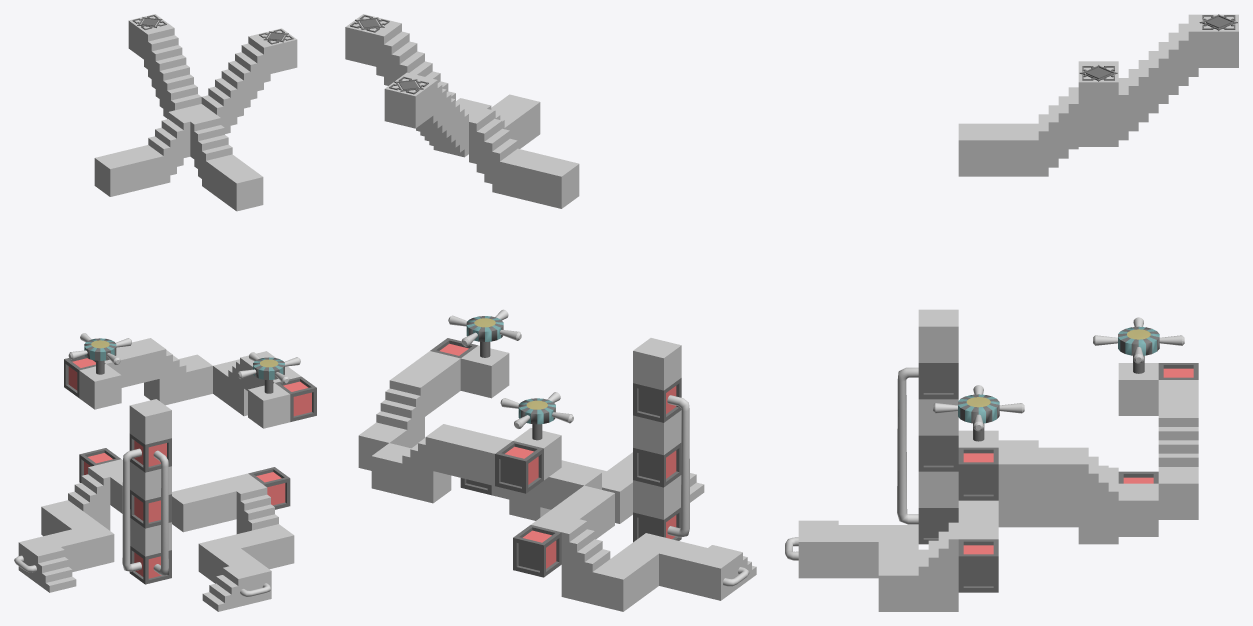
The model's file is Stage5.fbx.
The picture shows the model from 3 angles, left to right: view 1: azimuth 30°, elevation 25°; view 2: azimuth 150°, elevation 25°; view 3: azimuth 270°, elevation 25°; orthographic projection. The views are drawn at different scales.
Visible parts, largest first — view 1: Cylinder008, Basic046, Basic057, Basic058, Basic079, Basic076, Basic015, Basic051, Basic061, Basic074, Basic067, Basic056 (+45 smaller); view 2: Basic003, Basic058, Box005, Basic046, Box007, Basic076, Basic050, Basic044, Basic069, Basic052, Basic072, Basic062 (+37 smaller); view 3: Box004, Basic049, Basic047, Basic007, Basic033, Basic034, Basic036, Basic046, Basic045, Basic057, Basic059, Box006 (+35 smaller).
Boxes of the visible parts, x1=… form: Cylinder008: x1=122, y1=448, x2=168, y2=575; Basic046: x1=129, y1=399, x2=171, y2=444; Basic057: x1=221, y1=166, x2=263, y2=211; Basic058: x1=94, y1=151, x2=136, y2=196; Basic079: x1=79, y1=364, x2=121, y2=409; Basic076: x1=248, y1=383, x2=290, y2=428; Basic015: x1=172, y1=486, x2=209, y2=532; Basic051: x1=236, y1=484, x2=278, y2=530; Basic061: x1=190, y1=115, x2=232, y2=160; Basic074: x1=144, y1=25, x2=186, y2=70; Basic067: x1=159, y1=64, x2=201, y2=110; Basic056: x1=34, y1=547, x2=76, y2=592; Basic003: x1=592, y1=559, x2=641, y2=611; Basic058: x1=530, y1=156, x2=579, y2=208; Box005: x1=513, y1=525, x2=561, y2=577; Basic046: x1=633, y1=338, x2=681, y2=390; Box007: x1=495, y1=441, x2=543, y2=493; Basic076: x1=460, y1=345, x2=509, y2=398; Basic050: x1=690, y1=548, x2=738, y2=600; Basic044: x1=376, y1=377, x2=424, y2=429; Basic069: x1=384, y1=76, x2=433, y2=128; Basic052: x1=561, y1=519, x2=610, y2=571; Basic072: x1=376, y1=21, x2=424, y2=73; Basic062: x1=469, y1=109, x2=517, y2=161; Box004: x1=958, y1=539, x2=998, y2=592; Basic049: x1=798, y1=525, x2=838, y2=578; Basic047: x1=838, y1=525, x2=878, y2=578; Basic007: x1=878, y1=558, x2=918, y2=611; Basic033: x1=1038, y1=447, x2=1078, y2=500; Basic034: x1=998, y1=447, x2=1038, y2=500; Basic036: x1=1118, y1=483, x2=1158, y2=536; Basic046: x1=918, y1=309, x2=958, y2=362; Basic045: x1=1158, y1=413, x2=1198, y2=466; Basic057: x1=958, y1=123, x2=998, y2=176; Basic059: x1=998, y1=123, x2=1038, y2=176; Box006: x1=958, y1=447, x2=998, y2=500.
Bounding box in the file's own units: 227 × 321 × 227.
